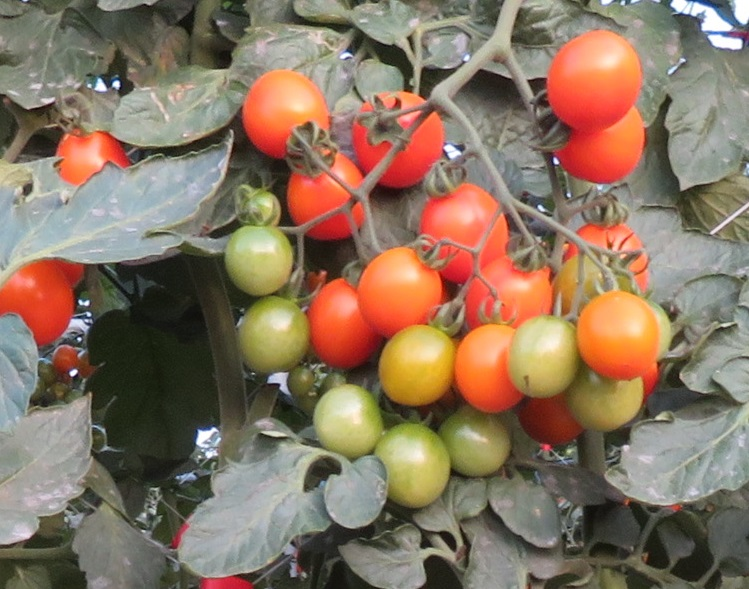green: (371, 418, 456, 511), (508, 307, 585, 401), (372, 323, 457, 406), (309, 381, 388, 458), (233, 297, 311, 372), (224, 227, 291, 300), (444, 415, 518, 481), (578, 377, 651, 431)
orange: (547, 25, 643, 132), (355, 89, 446, 186), (420, 187, 508, 281), (552, 108, 651, 188), (241, 67, 324, 161), (285, 146, 368, 238), (358, 249, 440, 340), (579, 290, 656, 383), (1, 259, 76, 342), (308, 272, 372, 366), (452, 321, 508, 412)
